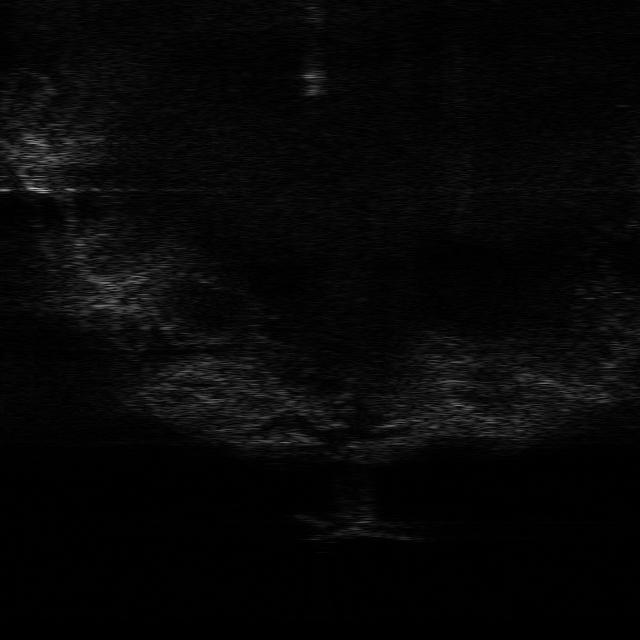plane: (295, 508, 423, 542)
